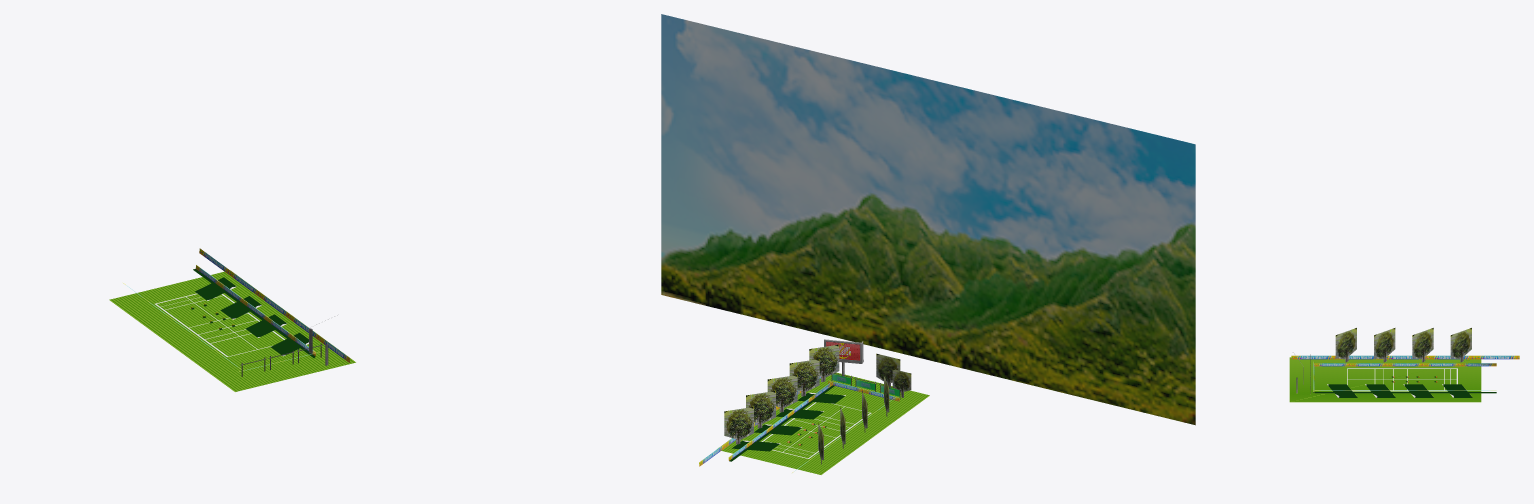
Rendered from EnvironmentA.glb.
3 renders of one model, left to right at view 1: azimuth 30°, elevation 25°; view 2: azimuth 150°, elevation 25°; view 3: azimuth 270°, elevation 25°, orthographic. The views are drawn at different scales.
Visible parts, largest first — view 1: Ground shadow; view 2: Ground shadow; view 3: Ground shadow.
Boxes of the visible parts, box(x1,y1,x2,y2) form: Ground shadow: box(109, 248, 355, 391); Ground shadow: box(661, 14, 1195, 474); Ground shadow: box(1289, 328, 1519, 402).
Bounding box in the file's own units: 173 × 87.88 × 94.23.
2 materials, 2 textured.
